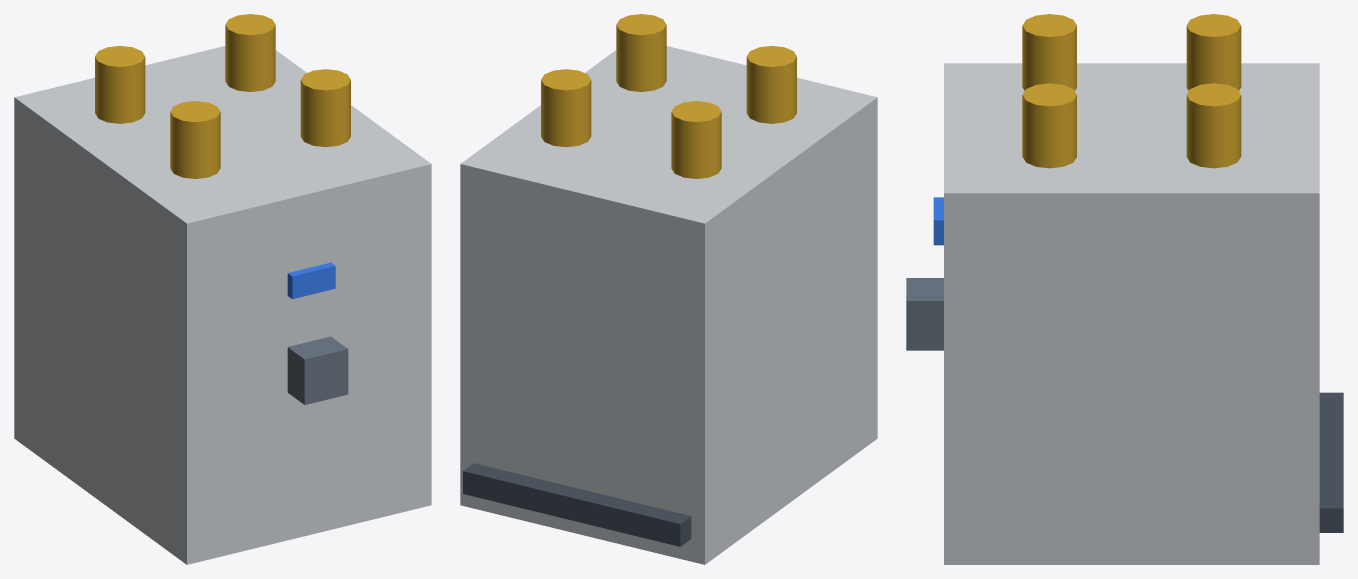
File: auxiliary-contact.glb
3 views of the same model, side by side, from view 1: azimuth 30°, elevation 25°; view 2: azimuth 150°, elevation 25°; view 3: azimuth 270°, elevation 25° (orthographic). The views are drawn at different scales.
Bounding box in the file's own units: 0.45 × 0.71 × 0.64.
